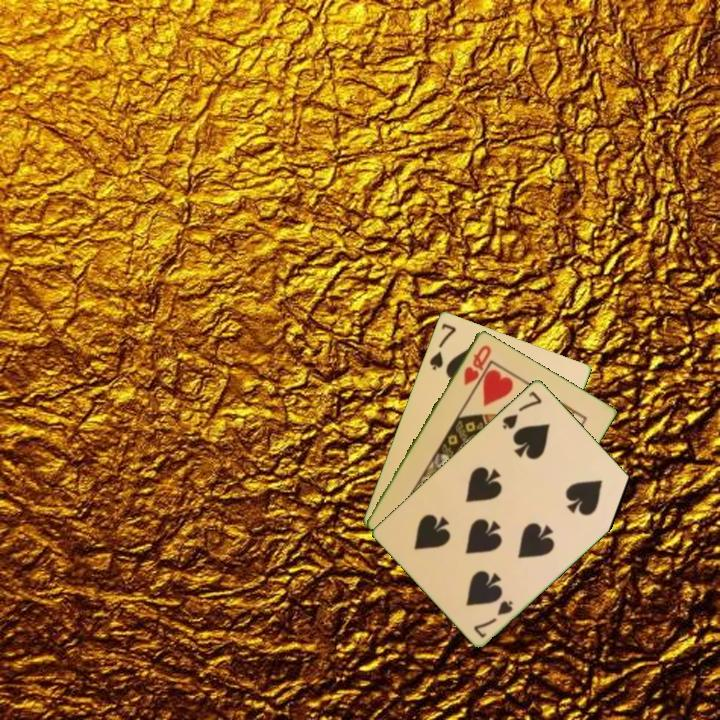7s: (499, 387, 545, 432), (470, 596, 516, 640), (426, 319, 459, 373)
Qh: (460, 341, 494, 388)
